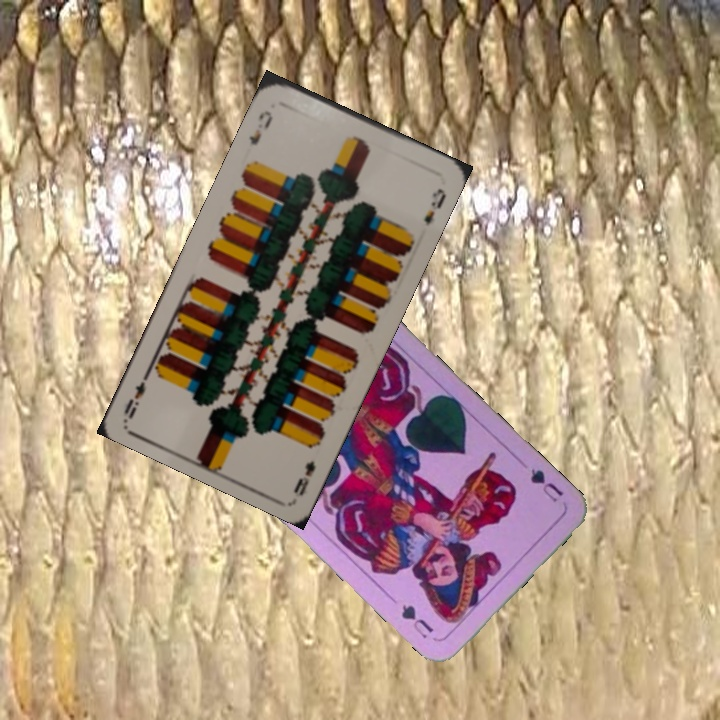E9: (244, 106, 276, 148), (289, 457, 319, 499)
GU: (526, 464, 566, 505)
